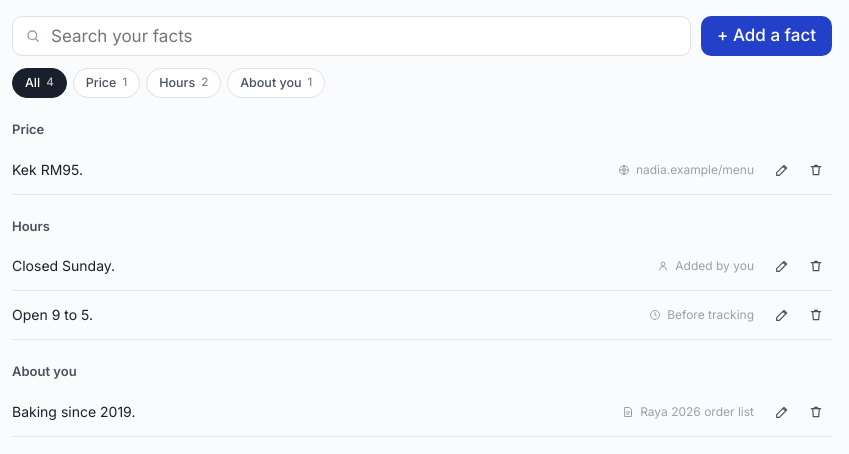
FactList › filters by kind, counting each, and offers only kinds that have facts
The image size is (849, 454).
Step 1. Click the button "Hours 2" → click(184, 83), box [146,68,221,98]
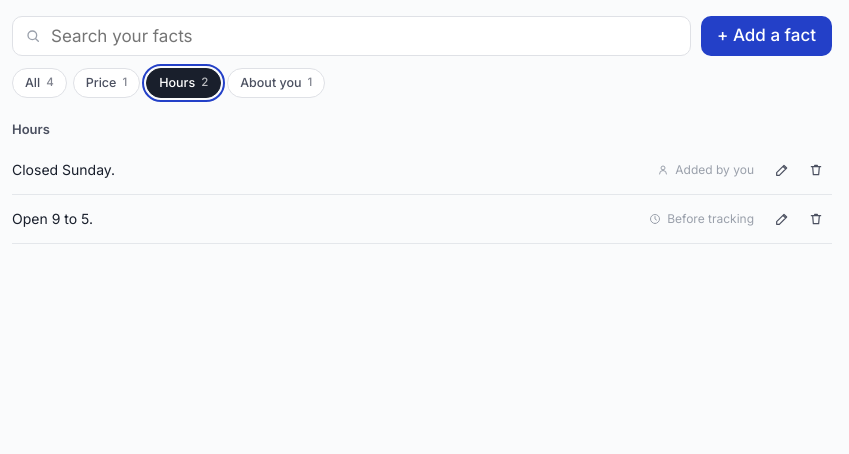
Expected: the text "Closed Sunday." is shown, [12,160,115,177]
Expected: the text "Kek RM95." is gone
